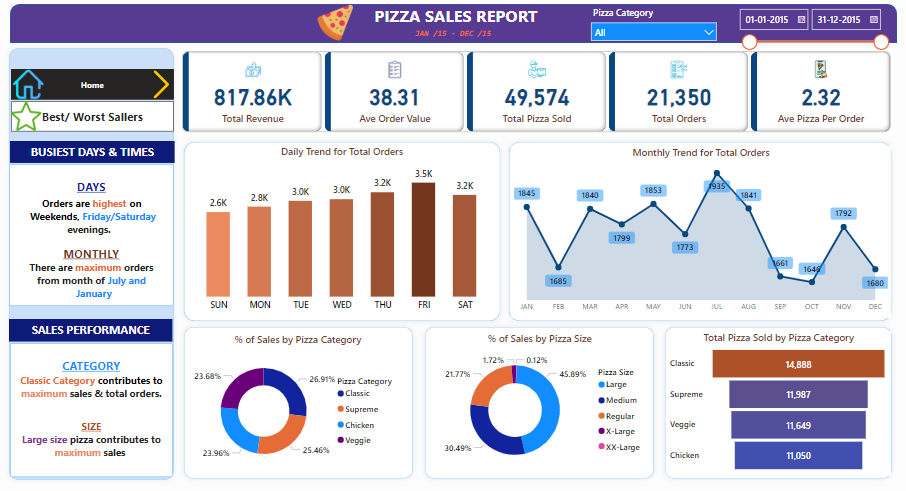

This screenshot's page, from the dashboard's own definition file:
{"tool":"powerbi","page":{"name":"Home","canvas":[1500,820],"ordinal":0},"visuals":[{"type":"shape","box":[16.7,78.3,286.7,725],"z":0},{"type":"textbox","box":[25.7,240,270,35.7],"z":1000},{"type":"cardVisual","fields":{"Data":["pizza_sales.Total Revenue","pizza_sales.Ave Order Value","pizza_sales.Total Pizza Sold","pizza_sales.Total Orders","pizza_sales.Ave Pizza Per Order"]},"box":[303.3,86.7,1175,143.3],"z":2000},{"type":"shape","box":[26.2,14.8,1454.7,64],"z":3000},{"type":"textbox","box":[603.5,9.8,300.1,49.2],"z":4000},{"type":"textbox","box":[685.5,47.6,157.4,27.9],"z":5000},{"type":"image","box":[523.2,9.8,73.8,70.5],"z":6000},{"type":"shape","box":[303.3,233.3,535,310],"z":7000},{"type":"columnChart","title":"Daily Trend for Total Orders","fields":{"Category":["pizza_sales.Order Day"],"Y":["pizza_sales.Total Orders"]},"box":[316.7,246.7,508.3,281.7],"z":8000},{"type":"shape","box":[836.7,233.3,643.3,310],"z":9000},{"type":"areaChart","title":"Monthly Trend for Total Orders","fields":{"Y":["pizza_sales.Total Orders"],"Category":["pizza_sales.Order Month"]},"box":[848.3,248.3,623.3,281.7],"z":10000},{"type":"shape","box":[303.3,536.7,391.7,265],"z":11000},{"type":"shape","box":[1091.7,536.7,388.3,265],"z":12000},{"type":"shape","box":[698.3,536.7,391.7,265],"z":13000},{"type":"donutChart","title":"% of Sales by Pizza Category","fields":{"Category":["pizza_sales.pizza_category"],"Y":["pizza_sales.Total Revenue"]},"box":[316.7,555,363.3,235],"z":14000},{"type":"donutChart","title":"% of Sales by Pizza Size","fields":{"Y":["pizza_sales.Total Revenue"],"Category":["pizza_sales.pizza_size"]},"box":[713.3,553.3,363.3,235],"z":15000},{"type":"funnel","title":"Total Pizza Sold by Pizza Category","fields":{"Y":["pizza_sales.Total Pizza Sold"],"Category":["pizza_sales.pizza_category"]},"box":[1103.3,551.7,366.7,236.7],"z":16000},{"type":"textbox","box":[25,276.7,270,233.3],"z":17000},{"type":"textbox","box":[26.7,570,266.7,220],"z":18000},{"type":"textbox","box":[25,531.7,268.3,36.7],"z":19000},{"type":"slicer","fields":{"Values":["pizza_sales.pizza_category"]},"box":[969.2,13.1,226.3,62.3],"z":20000},{"type":"multiRowCard","fields":{"Values":["pizza_sales.order_date"]},"box":[1210.3,13.1,265.7,83.6],"z":21000},{"type":"pageNavigator","box":[27.1,121.4,267.1,50],"z":22000},{"type":"pageNavigator","box":[27.1,174.3,267.1,50],"z":23000},{"type":"image","box":[246.7,118.3,56.7,56.7],"z":24000},{"type":"image","box":[26.7,116.7,60,60],"z":25000},{"type":"image","box":[20,168.3,66.7,60],"z":26000}]}

Visuals, with their boxes in screenshot pixels (x1, y1, x2, y2), scaled from the page's 1500x820 canvas onto the 906x491 screenshot:
shape: [left=10, top=47, right=183, bottom=481]
textbox: [left=16, top=144, right=179, bottom=165]
cardVisual - pizza_sales.Total Revenue x pizza_sales.Ave Order Value: [left=183, top=52, right=893, bottom=138]
shape: [left=16, top=9, right=894, bottom=47]
textbox: [left=365, top=6, right=546, bottom=35]
textbox: [left=414, top=29, right=509, bottom=45]
image: [left=316, top=6, right=361, bottom=48]
shape: [left=183, top=140, right=506, bottom=325]
"Daily Trend for Total Orders" columnChart: [left=191, top=148, right=498, bottom=316]
shape: [left=505, top=140, right=894, bottom=325]
"Monthly Trend for Total Orders" areaChart: [left=512, top=149, right=889, bottom=317]
shape: [left=183, top=321, right=420, bottom=480]
shape: [left=659, top=321, right=894, bottom=480]
shape: [left=422, top=321, right=658, bottom=480]
"% of Sales by Pizza Category" donutChart: [left=191, top=332, right=411, bottom=473]
"% of Sales by Pizza Size" donutChart: [left=431, top=331, right=650, bottom=472]
"Total Pizza Sold by Pizza Category" funnel: [left=666, top=330, right=888, bottom=472]
textbox: [left=15, top=166, right=178, bottom=305]
textbox: [left=16, top=341, right=177, bottom=473]
textbox: [left=15, top=318, right=177, bottom=340]
slicer - pizza_sales.pizza_category: [left=585, top=8, right=722, bottom=45]
multiRowCard - pizza_sales.order_date: [left=731, top=8, right=892, bottom=58]
pageNavigator: [left=16, top=73, right=178, bottom=103]
pageNavigator: [left=16, top=104, right=178, bottom=134]
image: [left=149, top=71, right=183, bottom=105]
image: [left=16, top=70, right=52, bottom=106]
image: [left=12, top=101, right=52, bottom=137]
